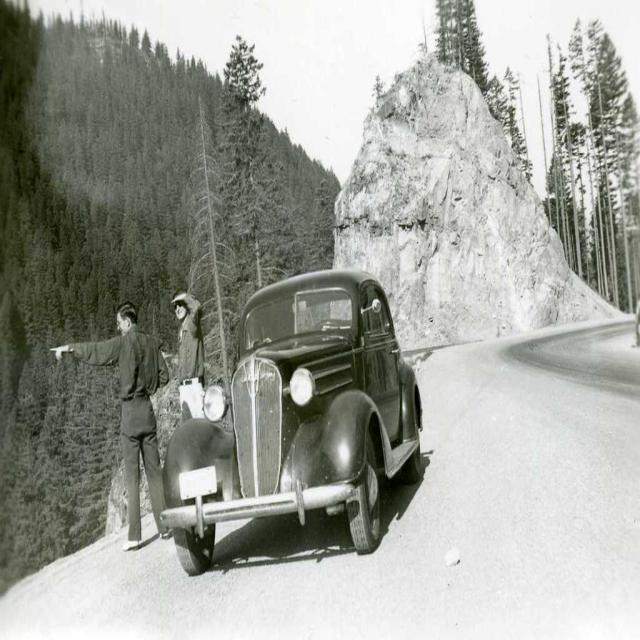car: (156, 269, 421, 556)
